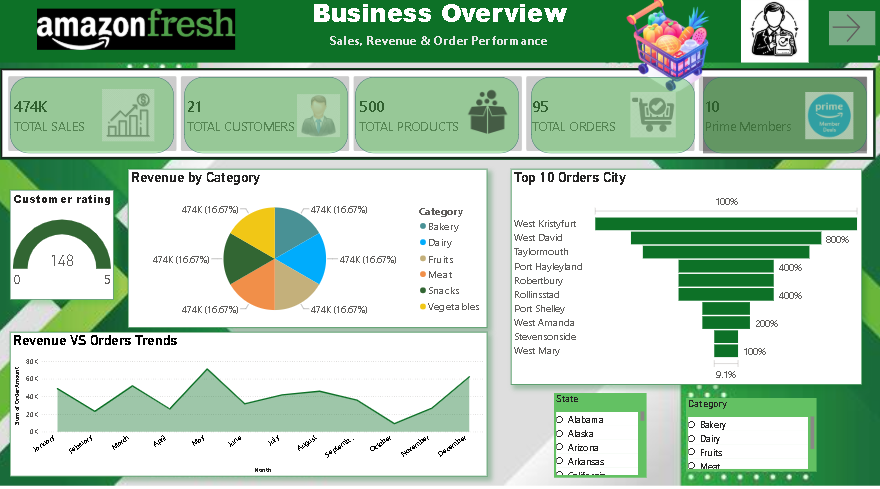

The page's visual inventory and layout, read from the dashboard file:
{"tool":"powerbi","page":{"name":"Amazon fresh overview","canvas":[1920,1080],"ordinal":1},"visuals":[{"type":"textbox","box":[10.8,226.8,965.5,79.9],"z":0},{"type":"textbox","title":"Business Overview","box":[0,0,1919.6,145.7],"z":1000},{"type":"cardVisual","fields":{"Data":["customers.TOTAL SALES","customers.TOTAL CUSTOMERS","customers.TOTAL PRODUCTS","customers.TOTAL ORDERS","orders1.Prime Members"]},"box":[10.9,158.7,1891.3,197.8],"z":2000},{"type":"image","box":[91.3,19.6,428.3,108.7],"z":3000},{"type":"image","box":[1337,0,234.8,215.2],"z":4000},{"type":"pieChart","title":"Revenue by Category","fields":{"Category":["products.Category"],"Y":["Sum(orders1.OrderAmount)"]},"box":[287.2,375.4,776.1,342.7],"z":5000},{"type":"areaChart","title":"Revenue VS Orders Trends","fields":{"Category":["orders1.OrderDate.Variation.Date Hierarchy.Month"],"Y":["Sum(orders1.OrderAmount)"]},"box":[32.8,728.2,1030.6,312.4],"z":6000},{"type":"funnel","title":"Top 10 Orders City","fields":{"Category":["customers.City"],"Y":["customers.TOTAL ORDERS"]},"box":[1113.7,375.4,758.4,466.1],"z":7000},{"type":"shape","box":[32.6,176.1,354.3,165.2],"z":8000},{"type":"shape","box":[408.7,176.1,354.3,165.2],"z":9000},{"type":"shape","box":[1528.3,176.1,354.3,165.2],"z":10000},{"type":"shape","box":[1158.7,176.1,354.3,165.2],"z":11000},{"type":"shape","box":[778.3,176.1,354.3,165.2],"z":12000},{"type":"image","box":[204.3,202.2,165.2,113],"z":13000},{"type":"image","box":[652.2,202.2,93.5,115.2],"z":14000},{"type":"image","box":[1013,187,100,128.3],"z":15000},{"type":"image","box":[1369.6,208.7,104.3,97.8],"z":16000},{"type":"image","box":[1743.5,208.7,117.4,102.2],"z":17000},{"type":"image","box":[1556.5,0,254.3,145.7],"z":18000},{"type":"listSlicer","fields":{"Values":["products.Category"]},"box":[1492.6,870.5,282.2,158.7],"z":19000},{"type":"listSlicer","fields":{"Values":["customers.State"]},"box":[1207.4,859.7,200,182.6],"z":20000},{"type":"actionButton","box":[1802.2,34.8,100,73.9],"z":21000},{"type":"gauge","title":"Customer rating","fields":{"MaxValue":["Funnel Customers.MAX"],"MinValue":["Funnel Customers.MIN"],"TargetValue":["Funnel Customers.Five Star Reviews"],"Y":["Sum(reviews.Rating)"]},"box":[32.8,420.8,224.3,236.9],"z":22000}]}

Visuals, with their boxes in screenshot pixels (x1, y1, x2, y2), scaled from the page's 1920x1080 canvas onto the 880x489 screenshot:
textbox: [5,103,447,139]
"Business Overview" textbox: [0,0,879,66]
cardVisual - customers.TOTAL SALES x customers.TOTAL CUSTOMERS: [5,72,872,161]
image: [42,9,238,58]
image: [613,0,720,97]
"Revenue by Category" pieChart: [132,170,487,325]
"Revenue VS Orders Trends" areaChart: [15,330,487,471]
"Top 10 Orders City" funnel: [510,170,858,381]
shape: [15,80,177,155]
shape: [187,80,350,155]
shape: [700,80,863,155]
shape: [531,80,693,155]
shape: [357,80,519,155]
image: [94,92,169,143]
image: [299,92,342,144]
image: [464,85,510,143]
image: [628,94,676,139]
image: [799,94,853,141]
image: [713,0,830,66]
listSlicer - products.Category: [684,394,813,466]
listSlicer - customers.State: [553,389,645,472]
actionButton: [826,16,872,49]
"Customer rating" gauge: [15,191,118,298]
